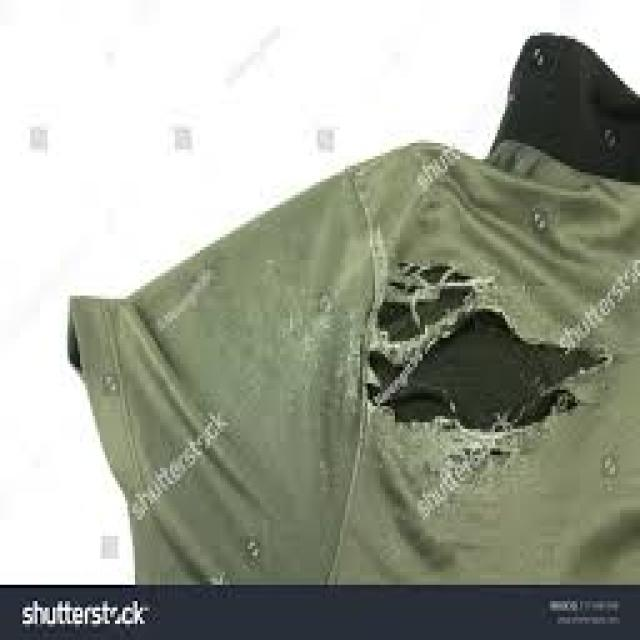Clothes -Biodegradable-: (67, 30, 640, 586)
